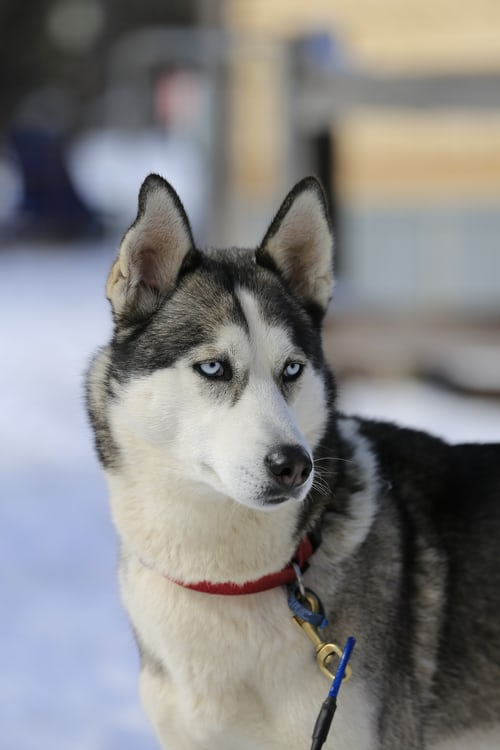husky: (70, 143, 383, 647)
